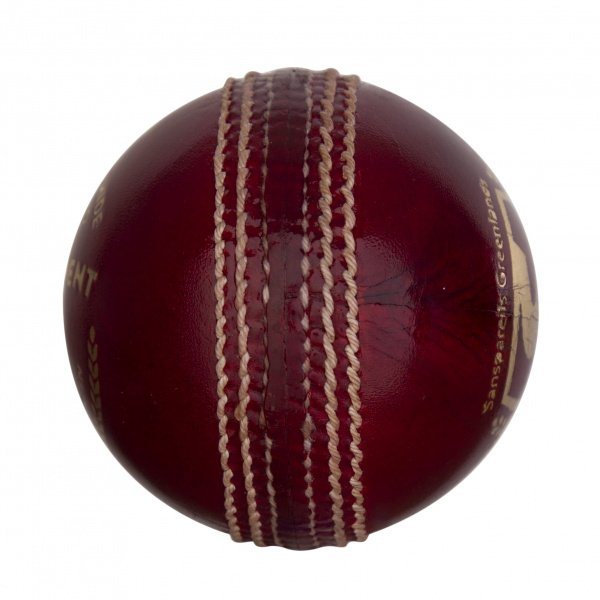sphere: (63, 68, 538, 551)
